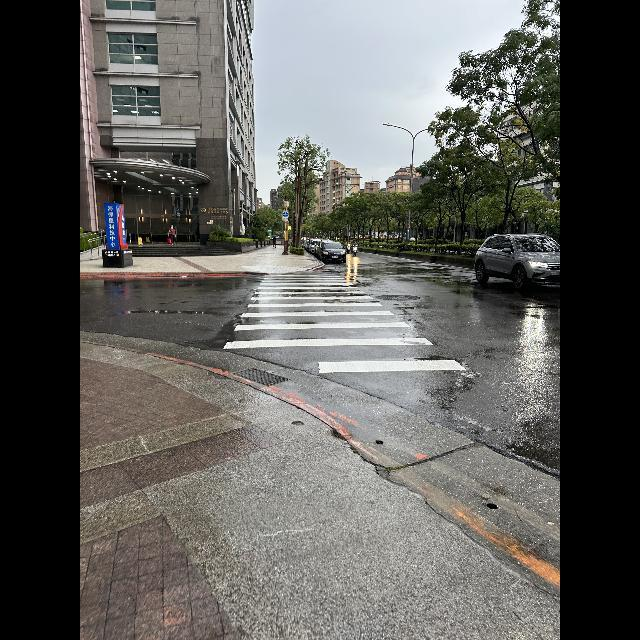sidewalk: (207, 274, 467, 375)
